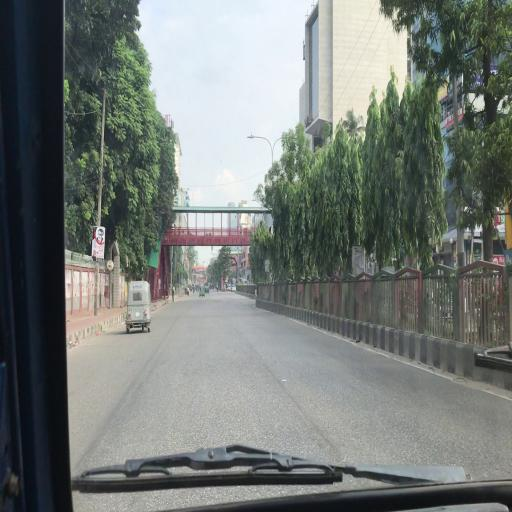bus: (231, 278, 237, 285)
car: (205, 287, 210, 292), (232, 286, 237, 291), (228, 286, 231, 291)
three wheelers (CNG): (125, 281, 153, 334), (200, 285, 205, 297)
